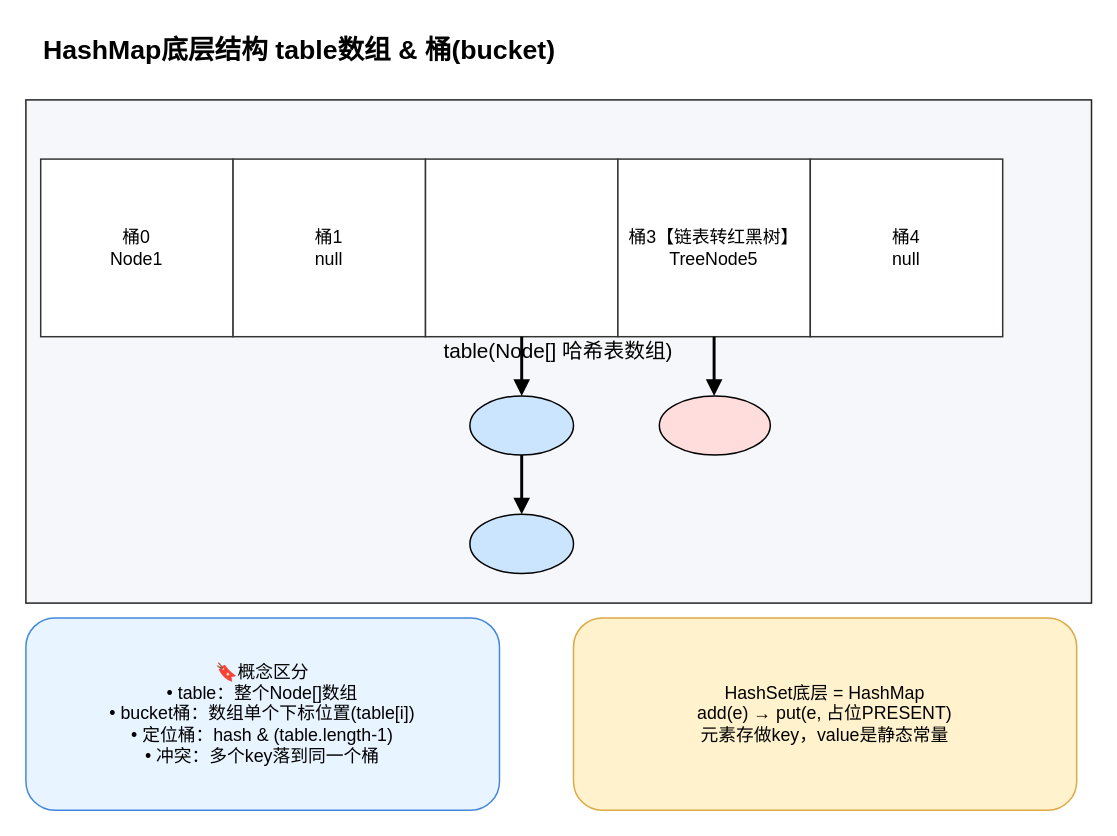
Image size: 1117x836. Some labels were removed from this diagram. Each missing label, with the centre of its shape:
Node4: (x=521, y=424)
Node7: (x=521, y=543)
TreeNode6: (x=714, y=424)
桶2【哈希冲突‑链表】 Node3: (x=521, y=247)
